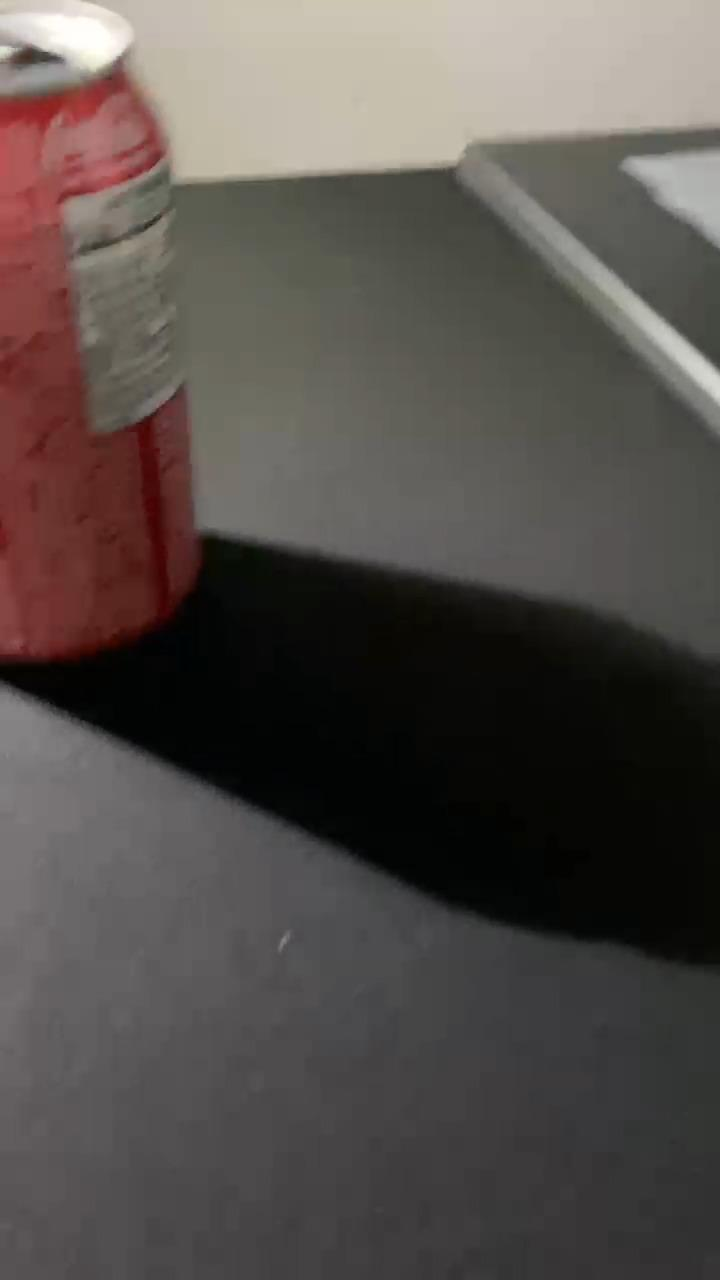coke: (0, 10, 205, 663)
